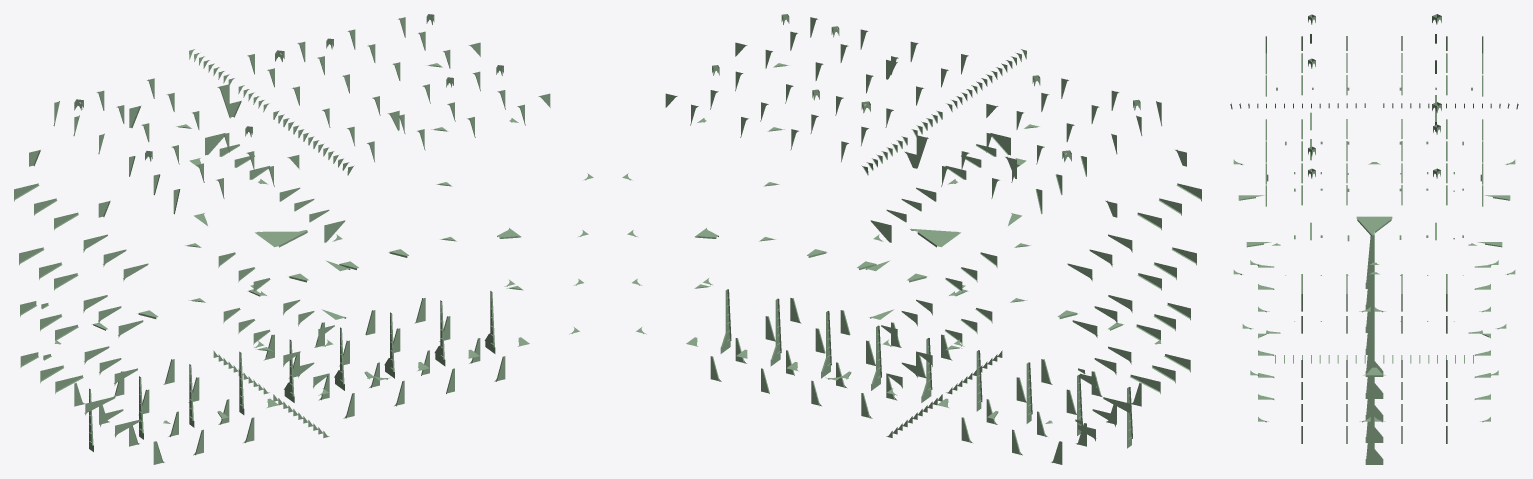
The model's file is NO_6_CENTRAL_CARGO_OIL_TK.glb.
The picture shows the model from 3 angles, left to right: view 1: azimuth 30°, elevation 25°; view 2: azimuth 150°, elevation 25°; view 3: azimuth 270°, elevation 25°; orthographic projection. The views are drawn at different scales.
Visible parts, largest first — view 1: no part large enough to name; view 2: no part large enough to name; view 3: PL_CenterBHDBracketxNo6CenterTank_008001-12.5_NVA_1993.
Part boxes in pixels (x1,y1,x2,y2): PL_CenterBHDBracketxNo6CenterTank_008001-12.5_NVA_1993: (1365,411,1374,464).
Size of the model in its own units: 47.16 by 31.5 by 29.
